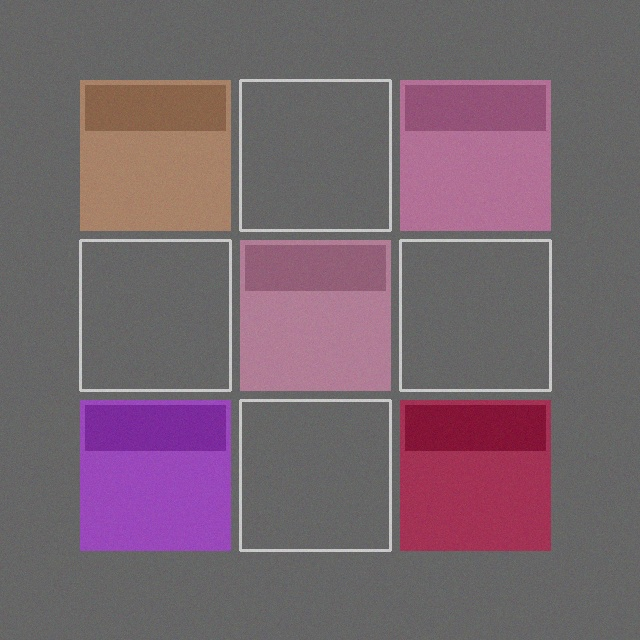space-empty: (240, 80, 390, 230), (80, 240, 230, 390), (400, 240, 550, 390), (240, 400, 390, 550)
space-occupied: (80, 80, 230, 230), (400, 80, 550, 230), (240, 240, 390, 390), (80, 400, 230, 550), (400, 400, 550, 550)
